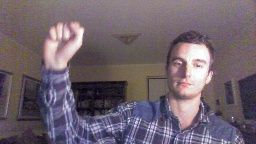Pugno: (41, 19, 85, 68)
